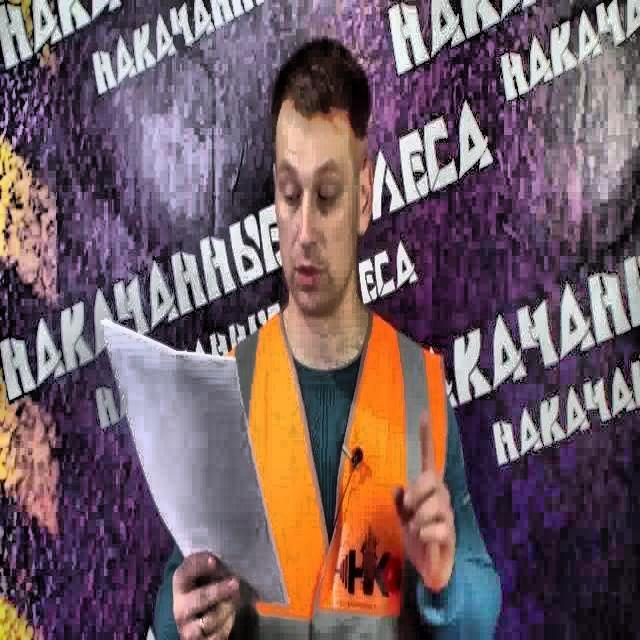safety_jacket: (207, 300, 451, 640)
